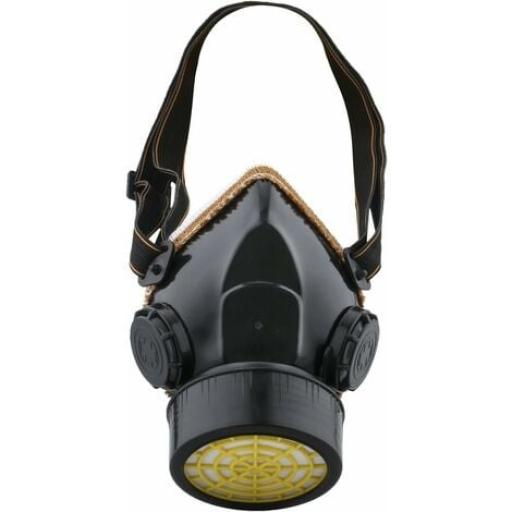mask: (102, 168, 399, 512)
